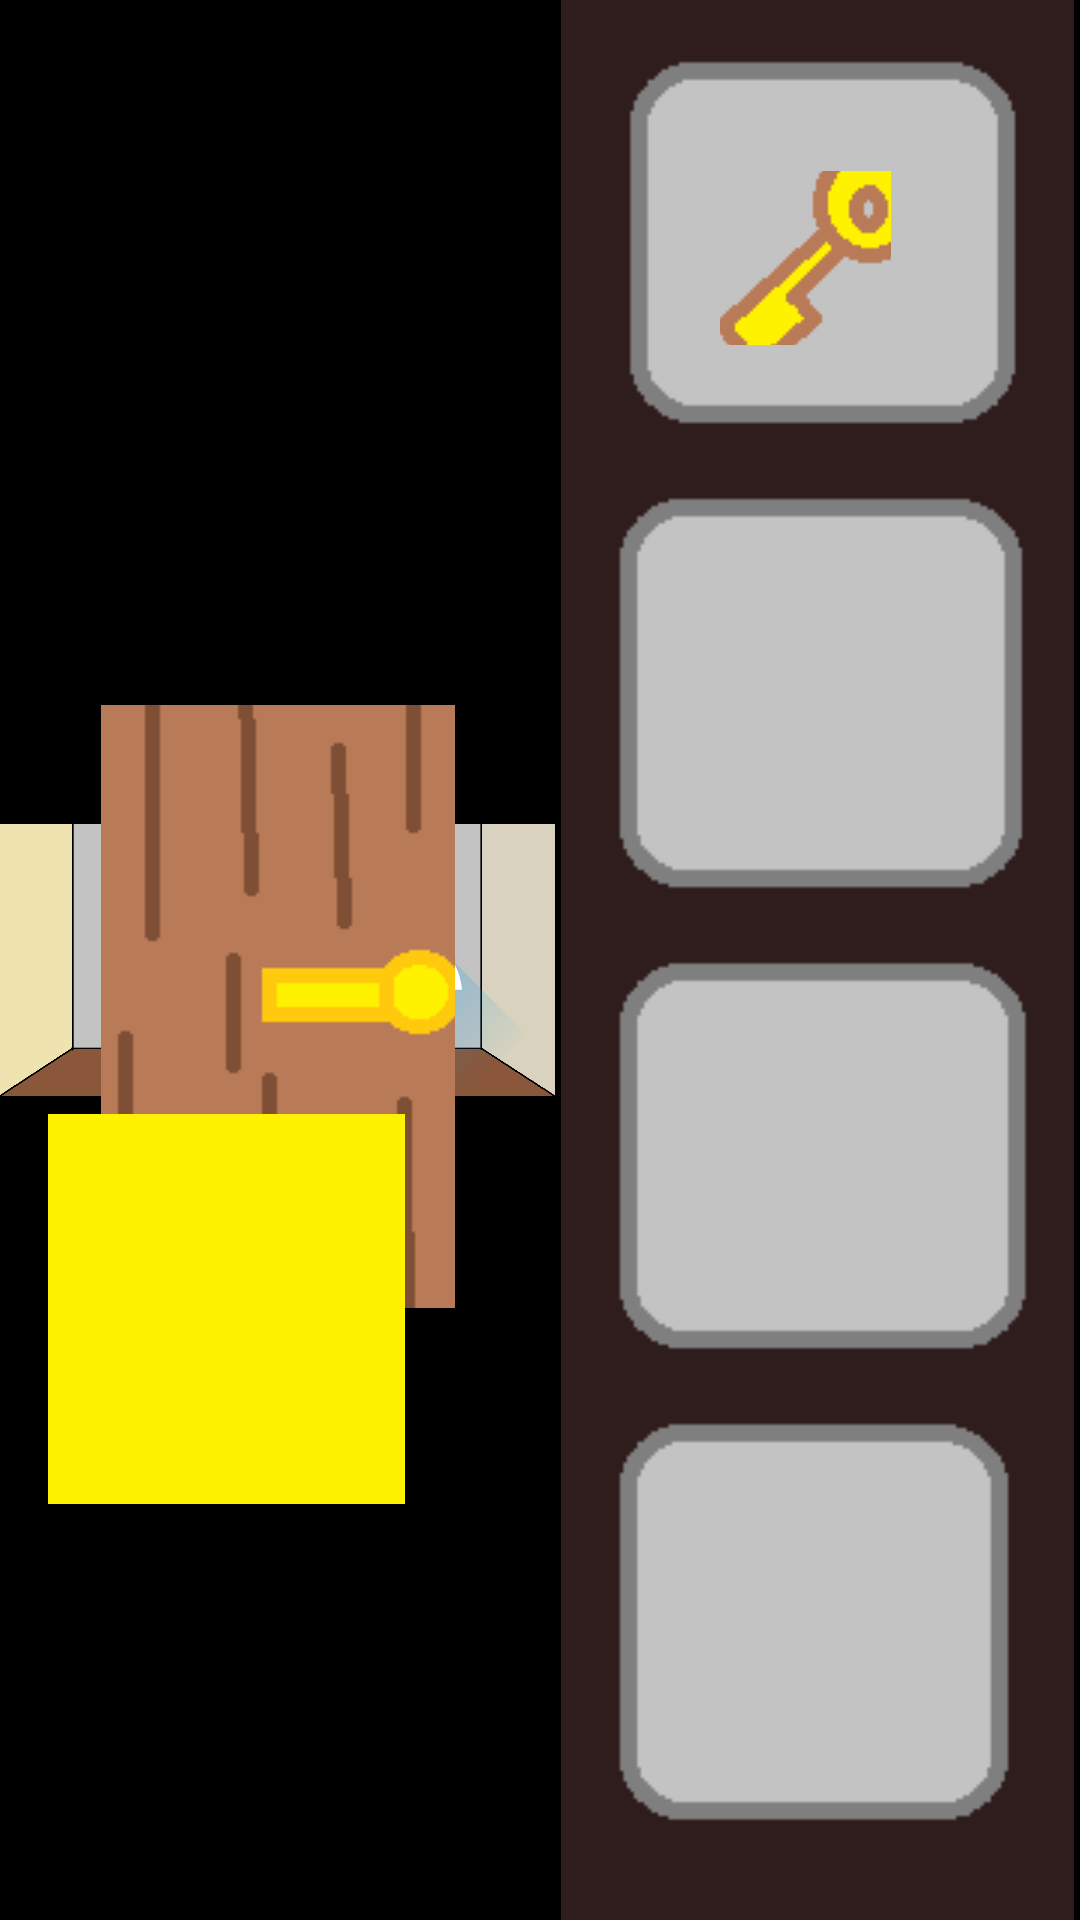

Icons on this 1080 × 1920 Android screen, each with its box as (x1, y1, x2, y2):
key: (720, 171, 891, 345)
